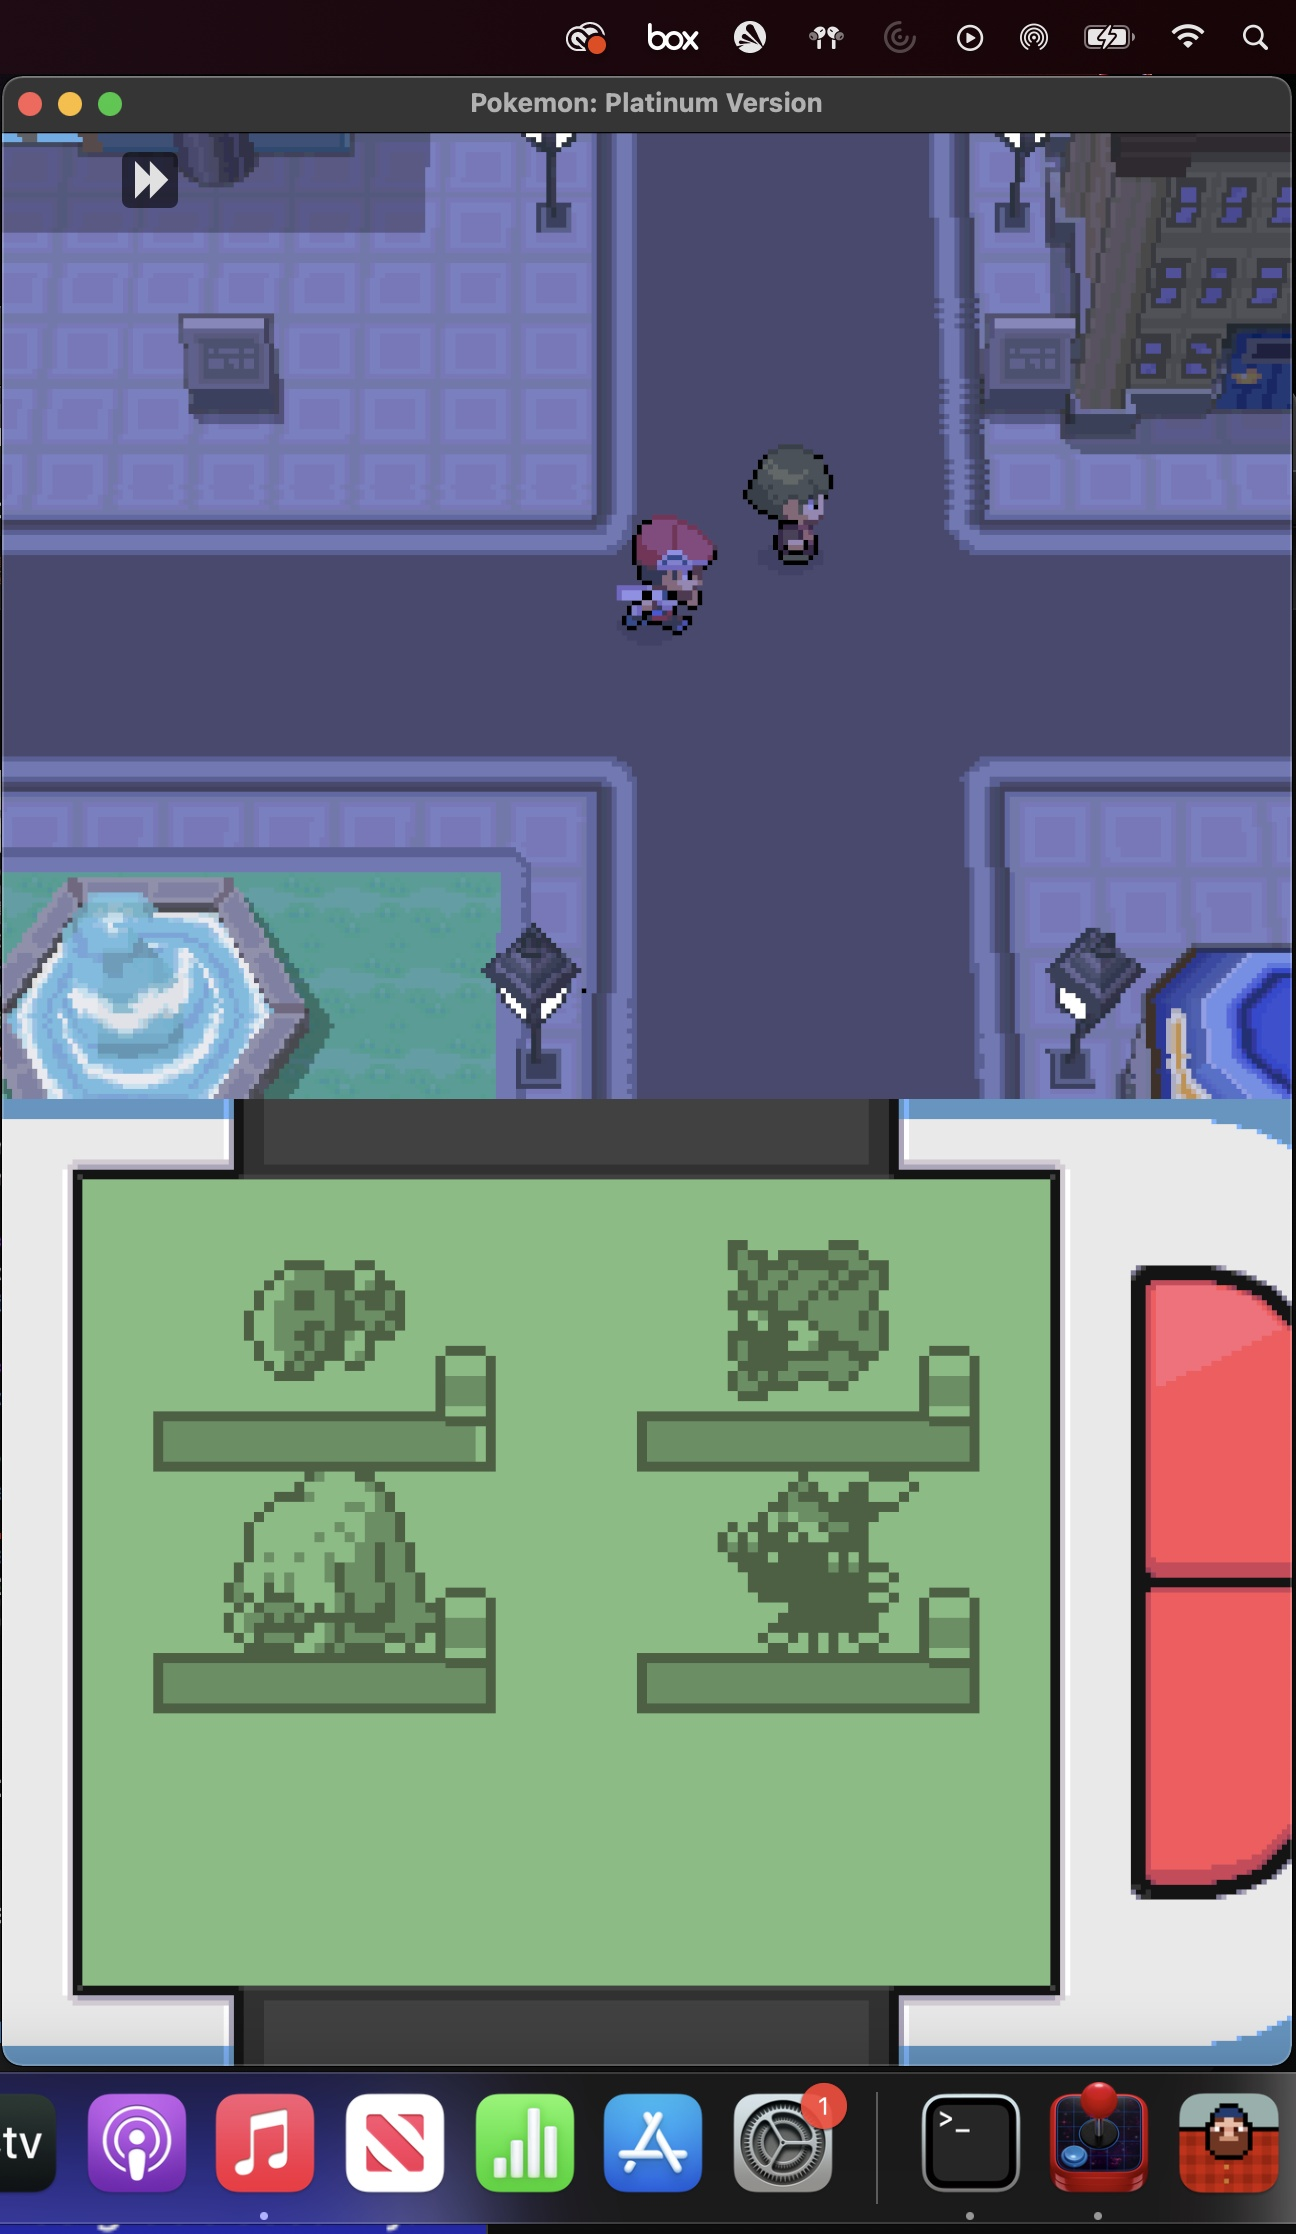player: (612, 509, 712, 649)
